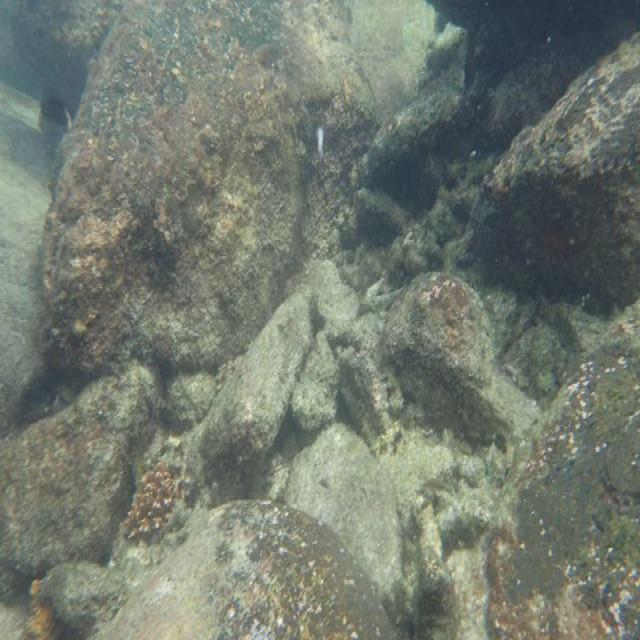reefs: (123, 461, 192, 539)
sea-floor: (33, 1, 382, 377), (444, 28, 639, 310), (478, 299, 638, 638), (352, 1, 638, 188), (21, 499, 399, 639), (0, 357, 162, 604), (169, 293, 314, 509), (379, 271, 539, 445), (282, 421, 414, 629)
